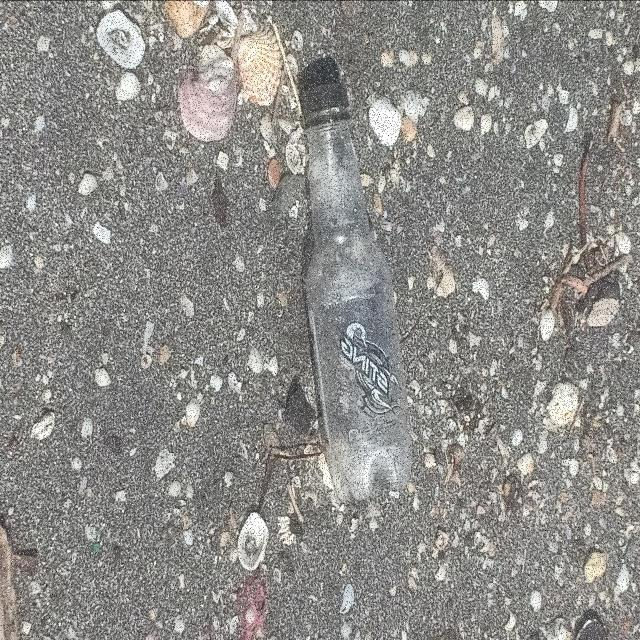plastic_waste: (300, 80, 414, 505)
